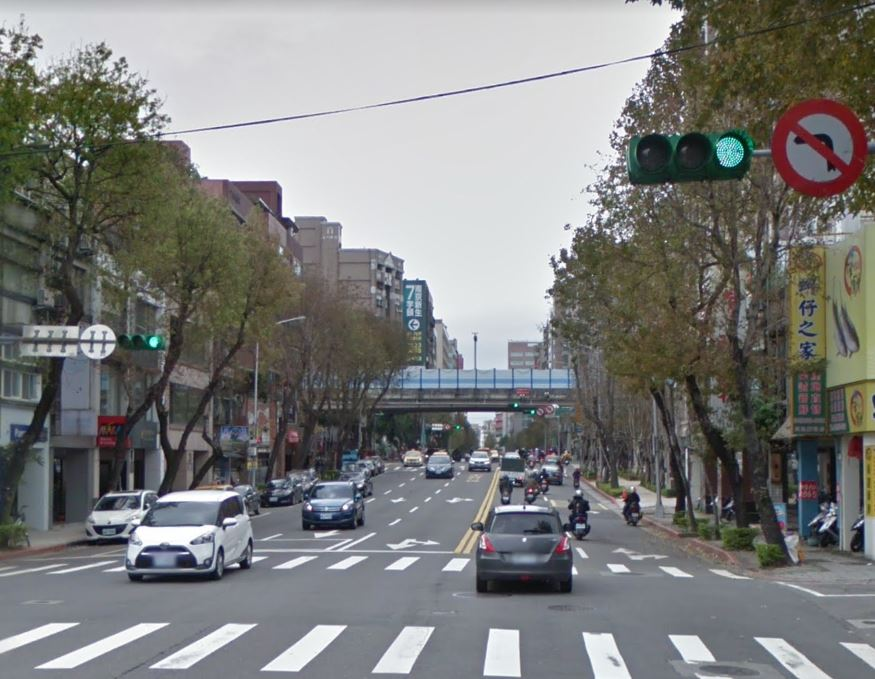Traffic_light_green: (615, 128, 754, 185), (113, 332, 166, 353)
car: (124, 485, 259, 585), (472, 503, 575, 601), (297, 477, 368, 529)
